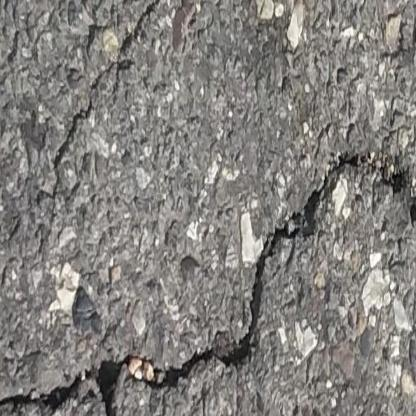Cracks: (0, 150, 416, 416), (88, 0, 171, 94), (34, 95, 97, 210), (83, 0, 112, 57)
